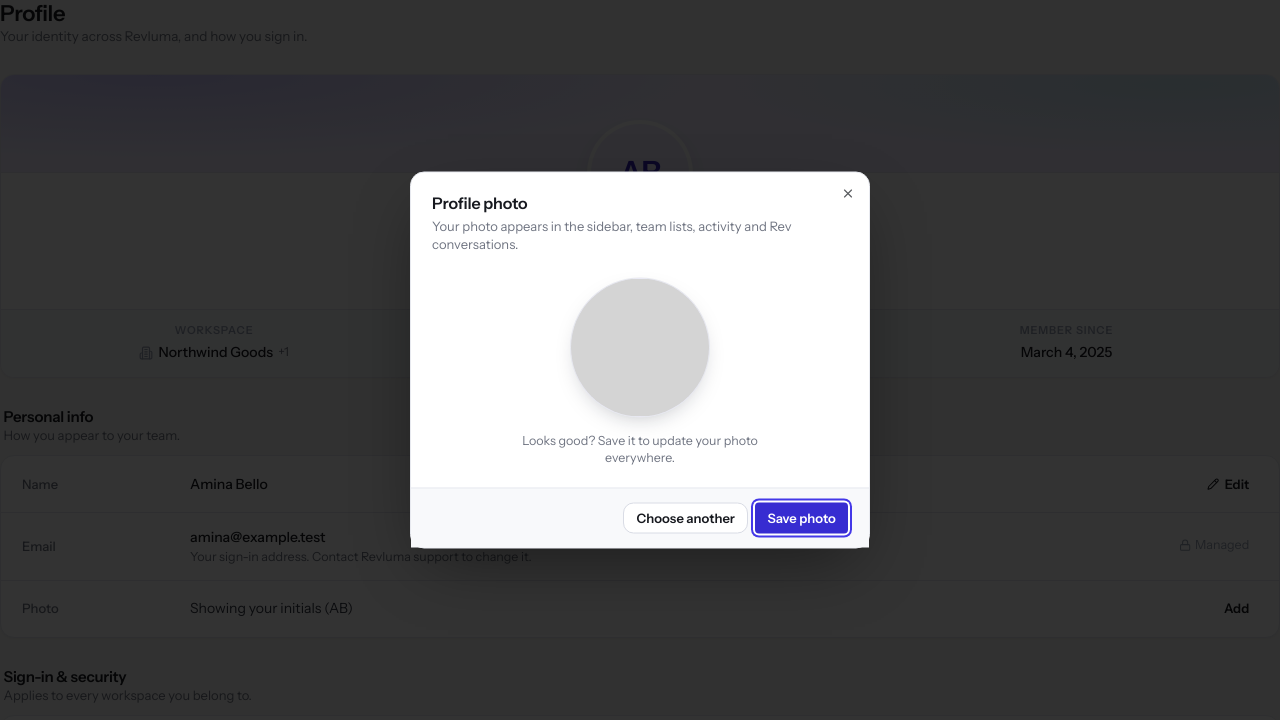
Test: Profile settings page › previews a photo in the dialog and uploads only after Save photo
Earlier steps of the test are not shown.
Later steps or results of the test are not shown.
Click the button "Save photo" at (802, 518), box [755,502,848,534]
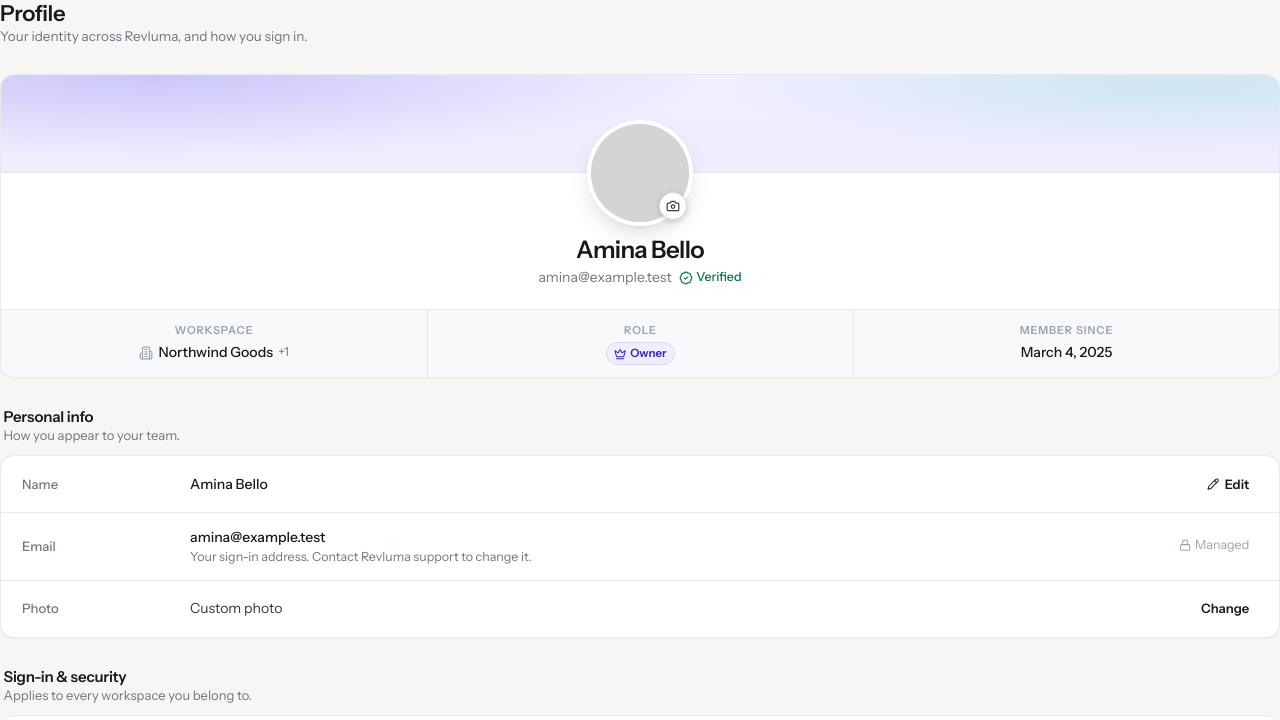
Check: the dialog is gone
